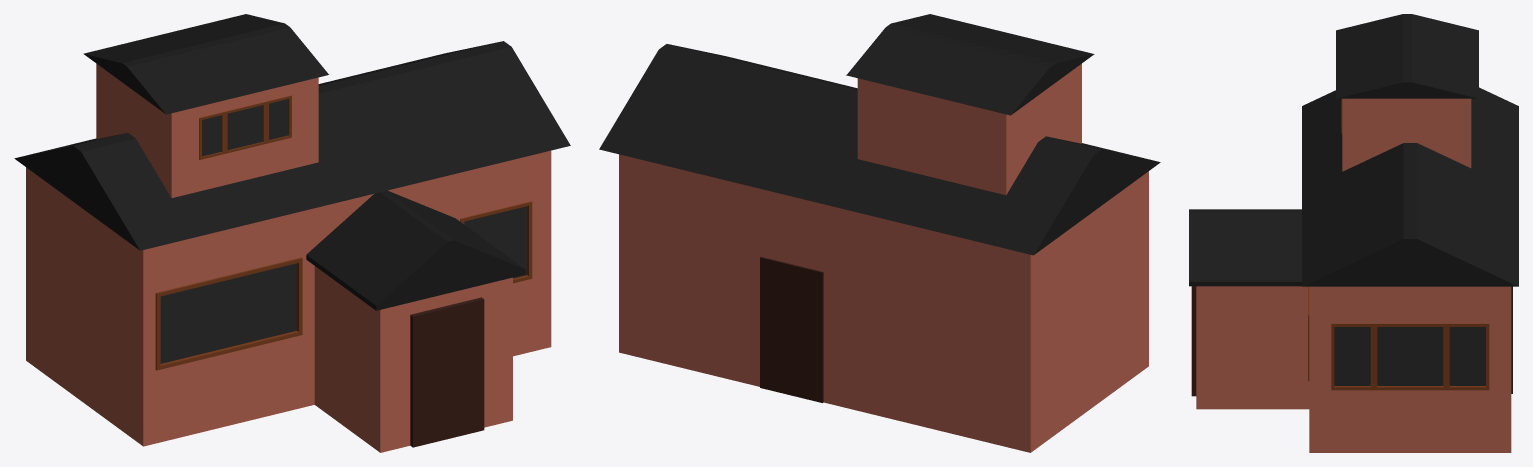
The model's file is home 5.fbx.
3 renders of one model, left to right at view 1: azimuth 30°, elevation 25°; view 2: azimuth 150°, elevation 25°; view 3: azimuth 270°, elevation 25°, orthographic. The views are drawn at different scales.
Parts seen in each view (by area): view 1: Vetri.010; view 2: Vetri.010; view 3: Vetri.010.
Boxes of the visible parts, left/top/right/bottom form: Vetri.010: left=14, top=14, right=570, bottom=452; Vetri.010: left=599, top=14, right=1160, bottom=452; Vetri.010: left=1189, top=14, right=1518, bottom=452.
Size of the model in its own units: 737 by 540 by 569.
Materials: 2 (2 with a texture image).
